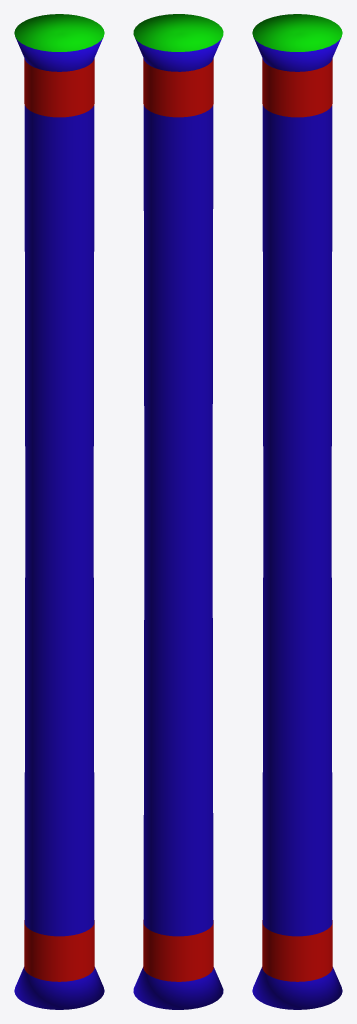
File: Sweetgrass.fbx
3 renders of one model, left to right at view 1: azimuth 90°, elevation 25°; view 2: azimuth 150°, elevation 25°; view 3: azimuth 270°, elevation 25°, orthographic.
Visible parts, largest first — view 1: SweetGrass; view 2: SweetGrass; view 3: SweetGrass.
Boxes of the visible parts, x1=… form: SweetGrass: x1=14, y1=14, x2=104, y2=1009; SweetGrass: x1=133, y1=14, x2=223, y2=1009; SweetGrass: x1=252, y1=14, x2=342, y2=1009.
Bounding box in the file's own units: 30.15 × 353 × 30.15.
